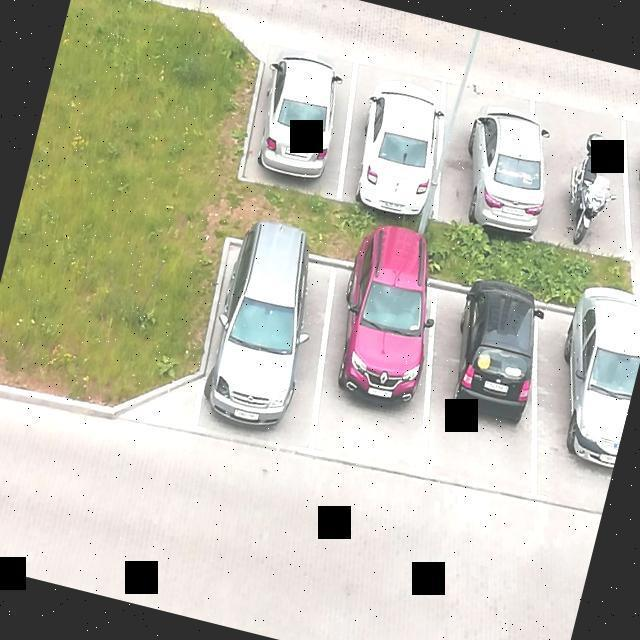car: (286, 246, 466, 482), (183, 230, 346, 463), (392, 270, 558, 498), (518, 287, 640, 514), (516, 90, 640, 255), (425, 74, 550, 236), (240, 36, 364, 195), (332, 59, 457, 214), (603, 108, 640, 272)
